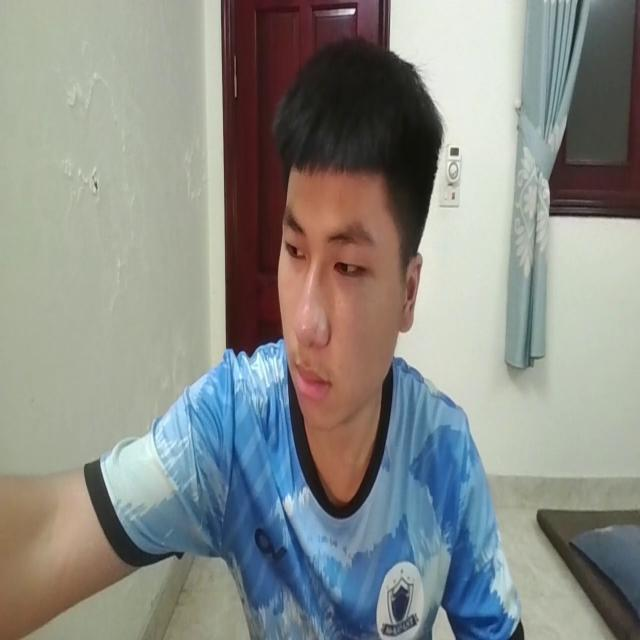student: (0, 34, 525, 640)
